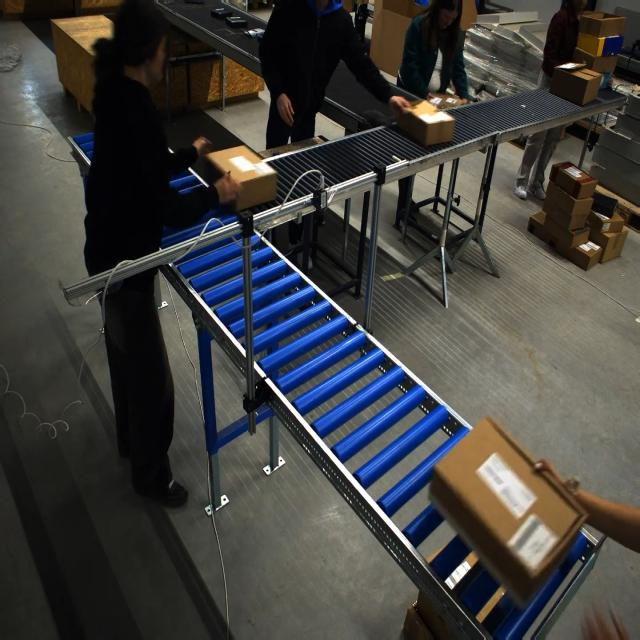box: (428, 421, 589, 607), (203, 144, 273, 213), (397, 99, 452, 147)
product: (225, 16, 248, 28), (210, 7, 232, 19), (243, 28, 265, 39), (184, 1, 205, 5)
